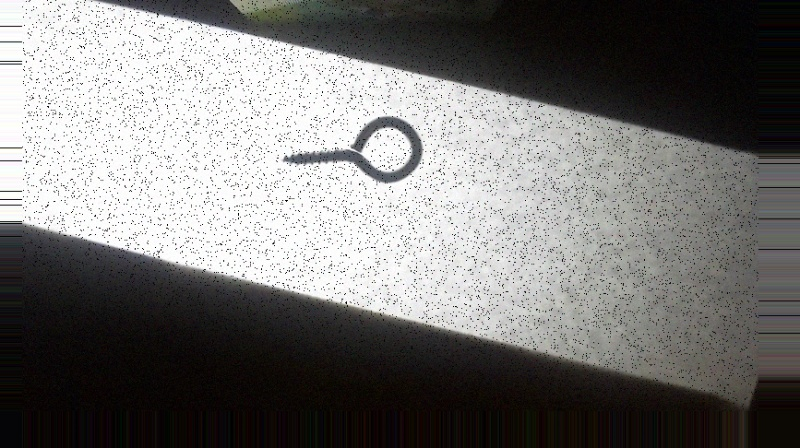O001: (277, 114, 426, 185)
